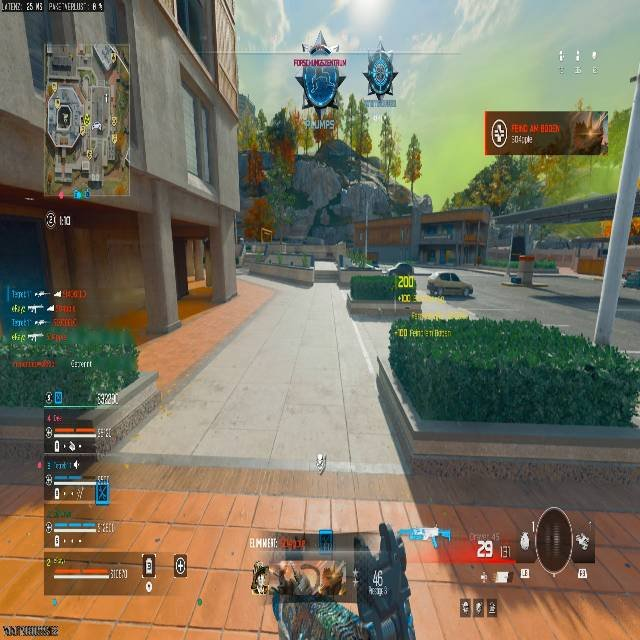player: (365, 50, 396, 104)
